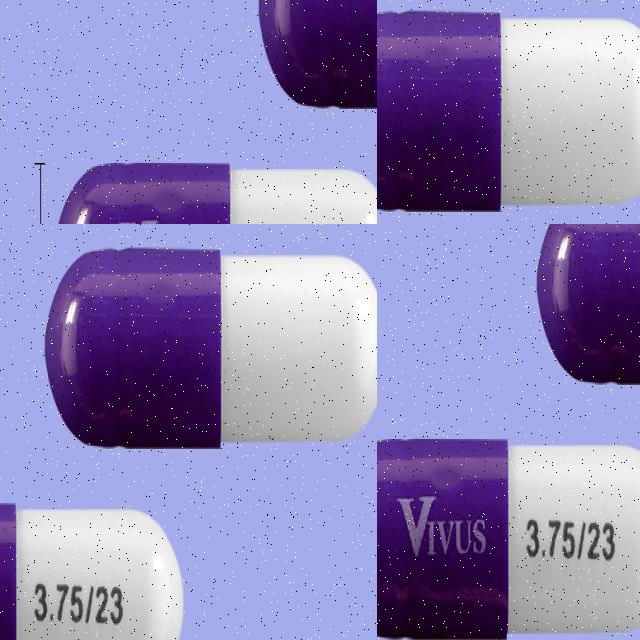Dr- Bearse: (0, 523, 168, 640)
Qsymia Cap-3-75mg: (377, 435, 640, 640), (536, 224, 640, 381)
Valtrex Tab: (52, 103, 350, 224)
